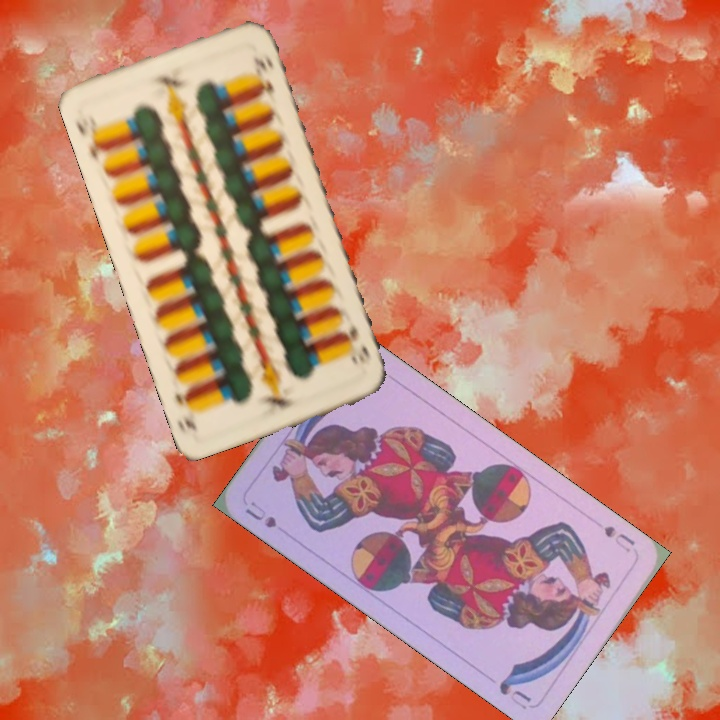E10: (71, 116, 110, 161), (340, 320, 374, 367)
SU: (241, 497, 280, 531), (599, 521, 638, 555)
